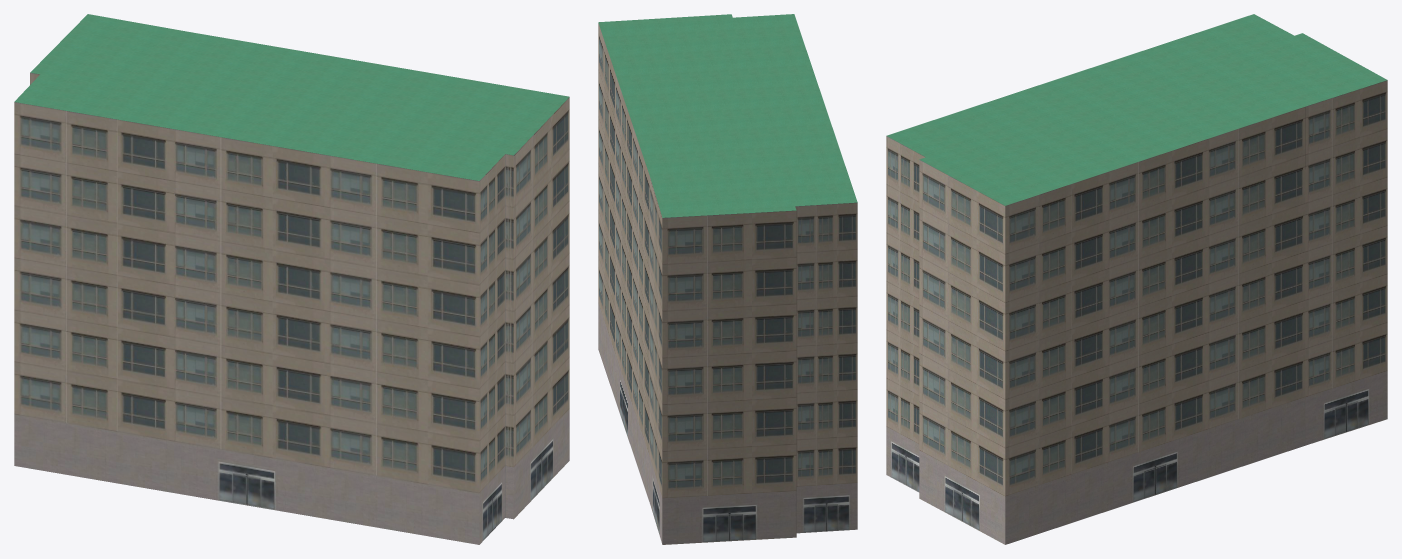
3 renders of one model, left to right at view 1: azimuth 30°, elevation 25°; view 2: azimuth 150°, elevation 25°; view 3: azimuth 270°, elevation 25°, orthographic. The views are drawn at different scales.
Visible parts, largest first — view 1: BuildingMaster_0000194273564461880700000000_0, BuildingMaster_0000194273564461880700000000_1; view 2: BuildingMaster_0000194273564461880700000000_0, BuildingMaster_0000194273564461880700000000_1; view 3: BuildingMaster_0000194273564461880700000000_0, BuildingMaster_0000194273564461880700000000_1.
Part boxes in pixels (x1,y1,x2,y2): BuildingMaster_0000194273564461880700000000_0: [14, 72, 569, 544]; BuildingMaster_0000194273564461880700000000_1: [14, 14, 569, 180]; BuildingMaster_0000194273564461880700000000_0: [598, 23, 857, 544]; BuildingMaster_0000194273564461880700000000_1: [598, 14, 857, 217]; BuildingMaster_0000194273564461880700000000_0: [886, 80, 1387, 544]; BuildingMaster_0000194273564461880700000000_1: [886, 14, 1387, 205].
Size of the model in its own units: 29.75 by 24.5 by 32.85.
Materials: 2 (2 with a texture image).
